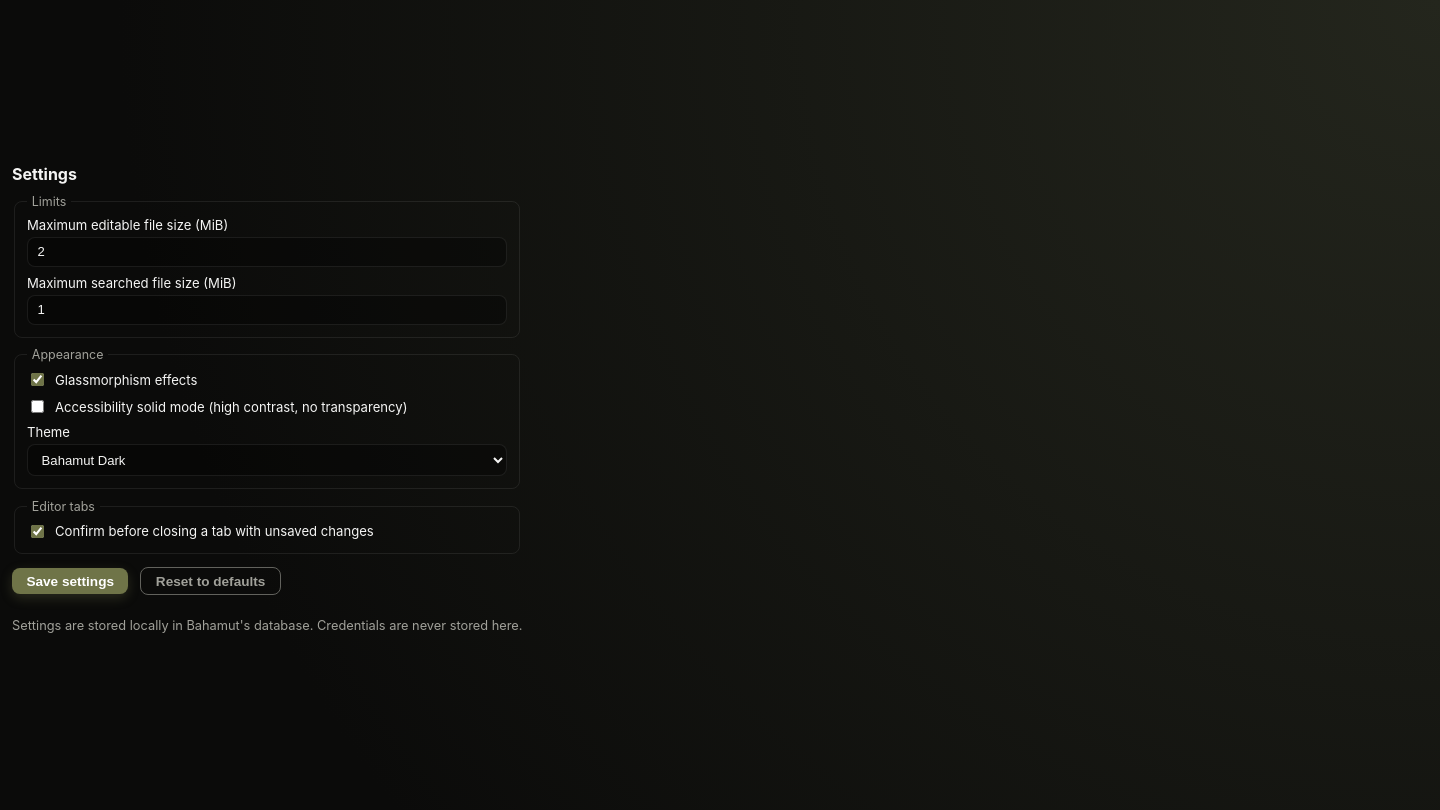
it: SettingsPanel › persists valid changes and reports them to the parent
Replace the text in the field labelled "Maximum editable file size (MiB)" with "4" at (267, 252), box [27, 237, 507, 267]
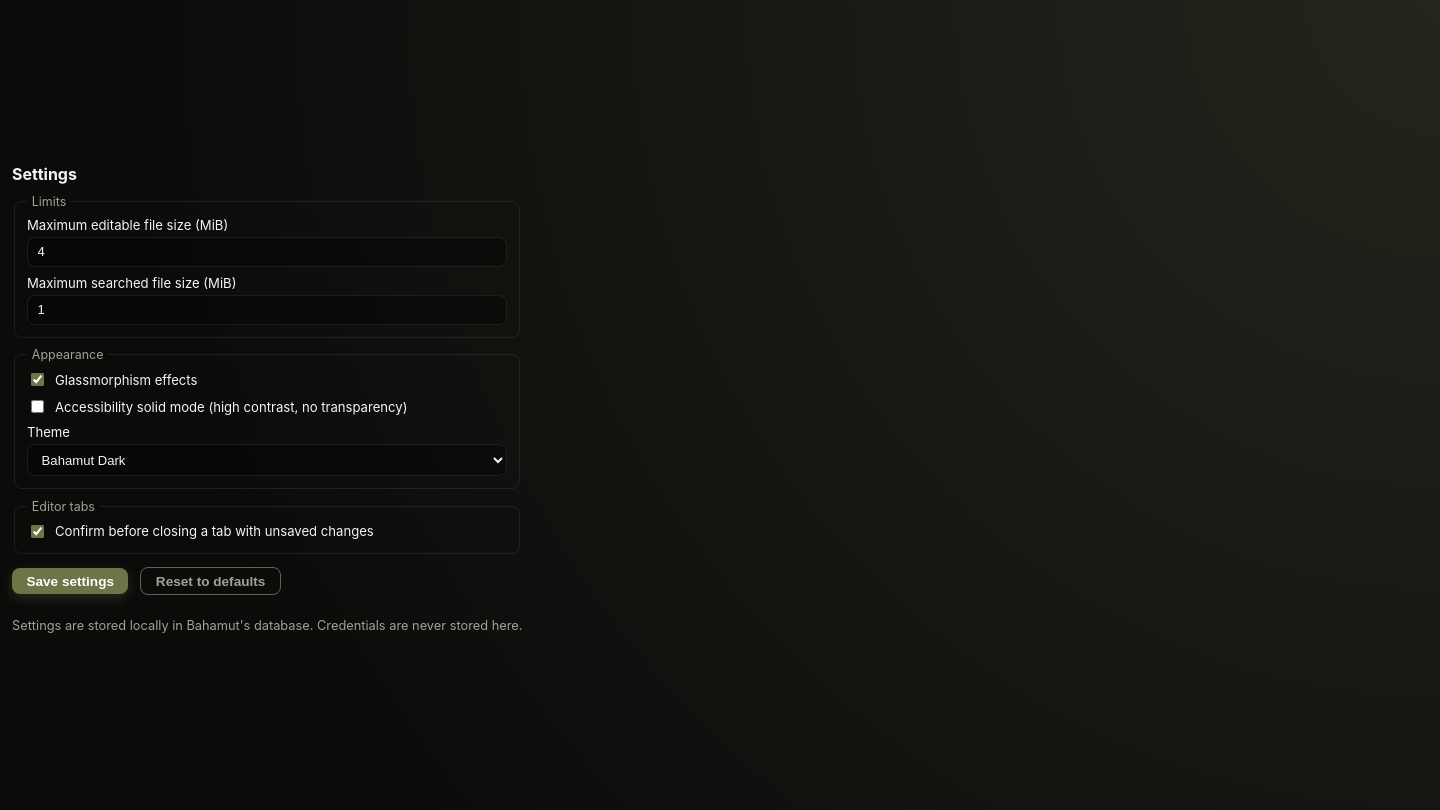
Click the checkbox labelled "Accessibility solid mode (high contrast, no transparency)" at (38, 407), box [31, 400, 44, 413]
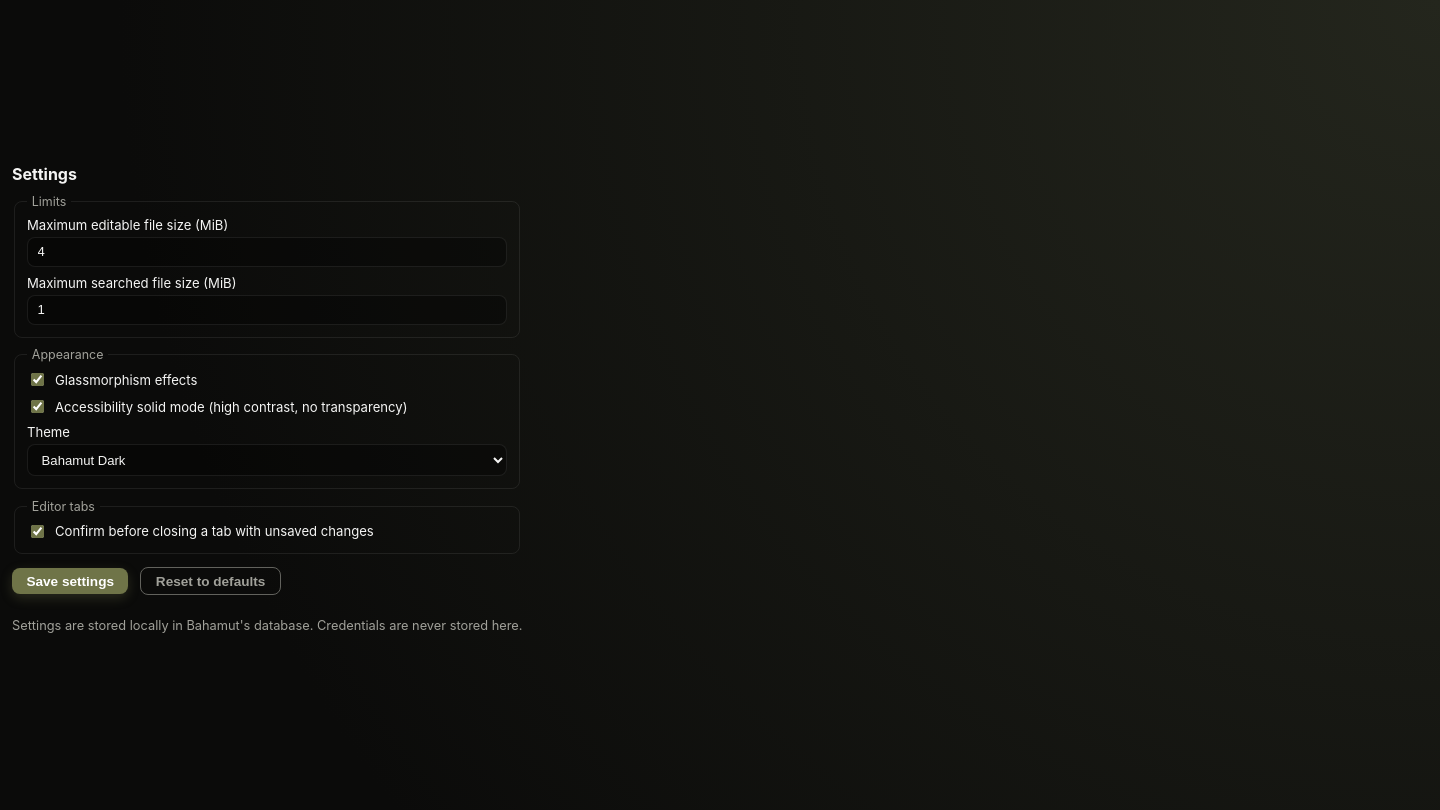
Click the button "Save settings" at (70, 581), box [12, 568, 128, 594]
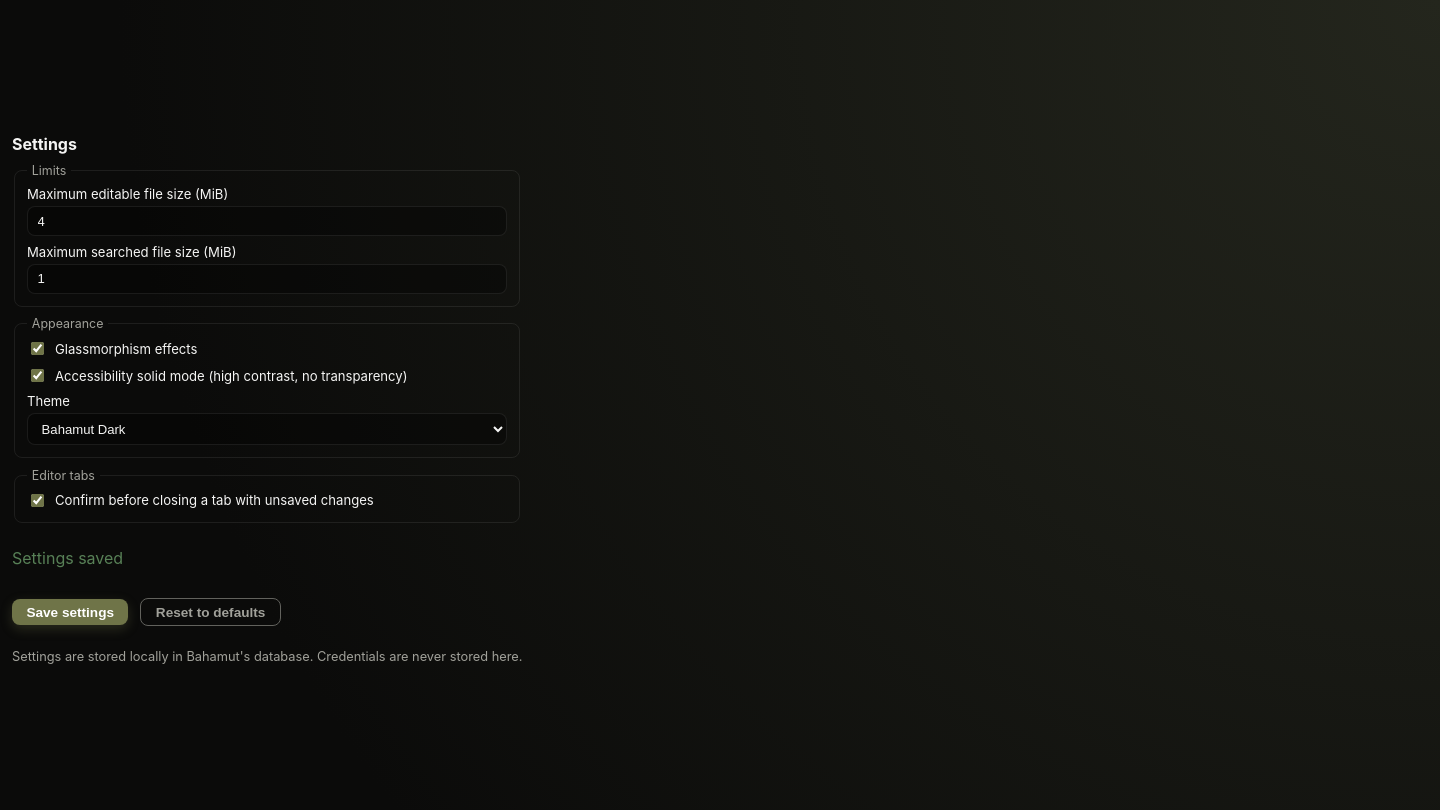
Expected: the text "Settings saved" is shown, [12, 548, 123, 568]
